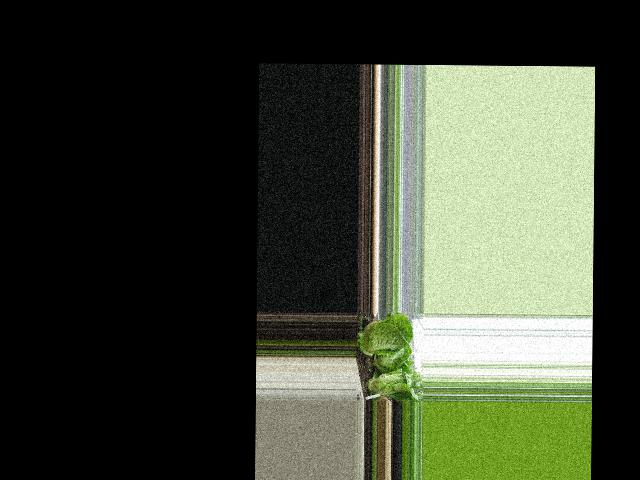lettuce: (361, 367, 417, 398)
